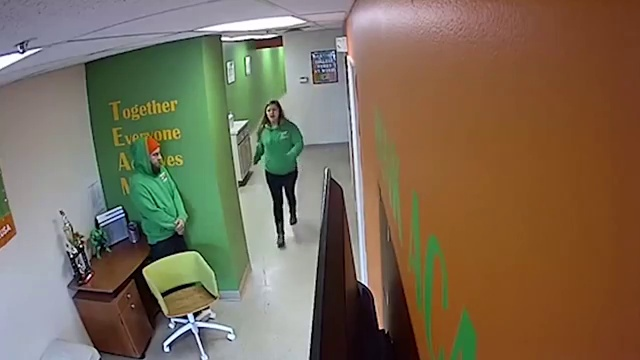face: (146, 147, 163, 169), (266, 105, 279, 120)
